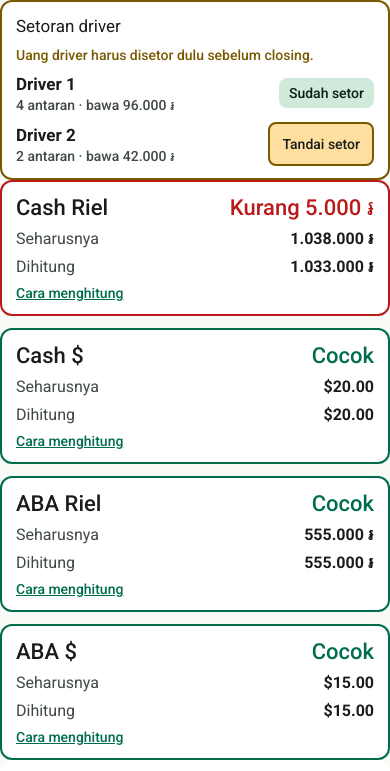
Test case: Closing – langkah 3 (hasil per kantong) › selisih per kantong tanpa kurs: Cash Riel kurang, lainnya cocok; rincian hitungan; catatan wajib
This screenshot has width=390, height=771.
Expected: the element with test id "pocket-cash-KHR" shows "Cash Riel", [16, 195, 108, 220]
Expected: the element with test id "pocket-cash-KHR" shows "Kurang 5.000 ៛", [230, 195, 374, 220]
Click the button "Cara menghitung" below "1.033.000 ៛": [70, 293] box [16, 284, 123, 302]
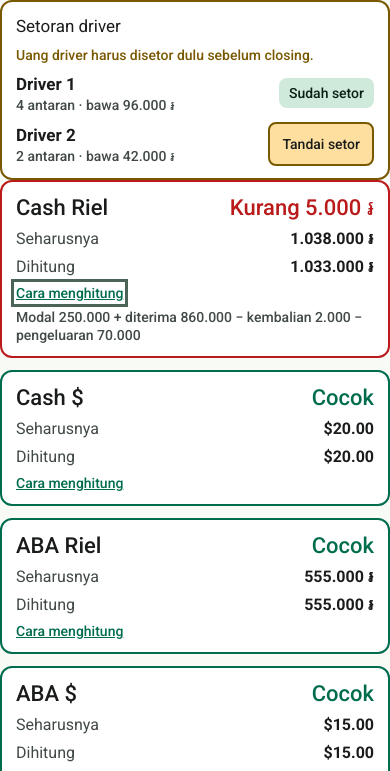
Expected: the text "Uang driver harus disetor dulu sebelum closing." is shown, [16, 47, 314, 63]
Expected: the text with test id "pocket-explain" reads "Modal 250.000 + diterima 860.000 − kembalian 2.000 − pengeluaran 70.000", [16, 309, 362, 343]
